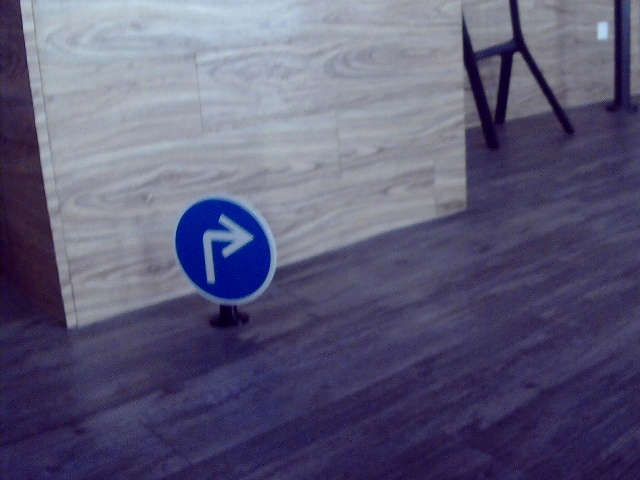turn_right: (198, 213, 253, 289)
